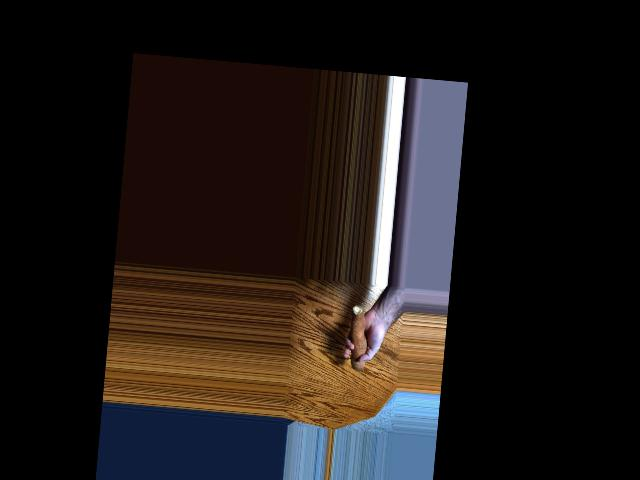sweet_potato: (344, 302, 367, 374)
